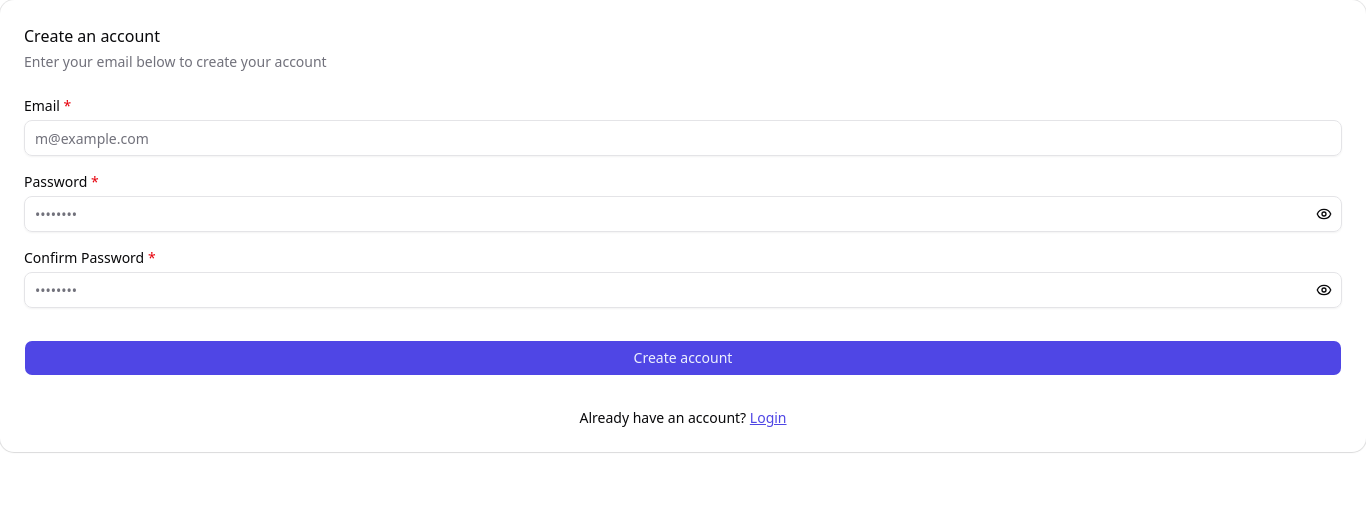
it: RegisterForm - Validation Logic › Password Validation › should show 'Password is required' error when password is empty
Note: Fill in email and confirm password but leave password empty
Type "test@example.com" into the field with placeholder "m@example.com".
click(683, 138); type("test@example.com")  # box [24, 120, 1342, 156]
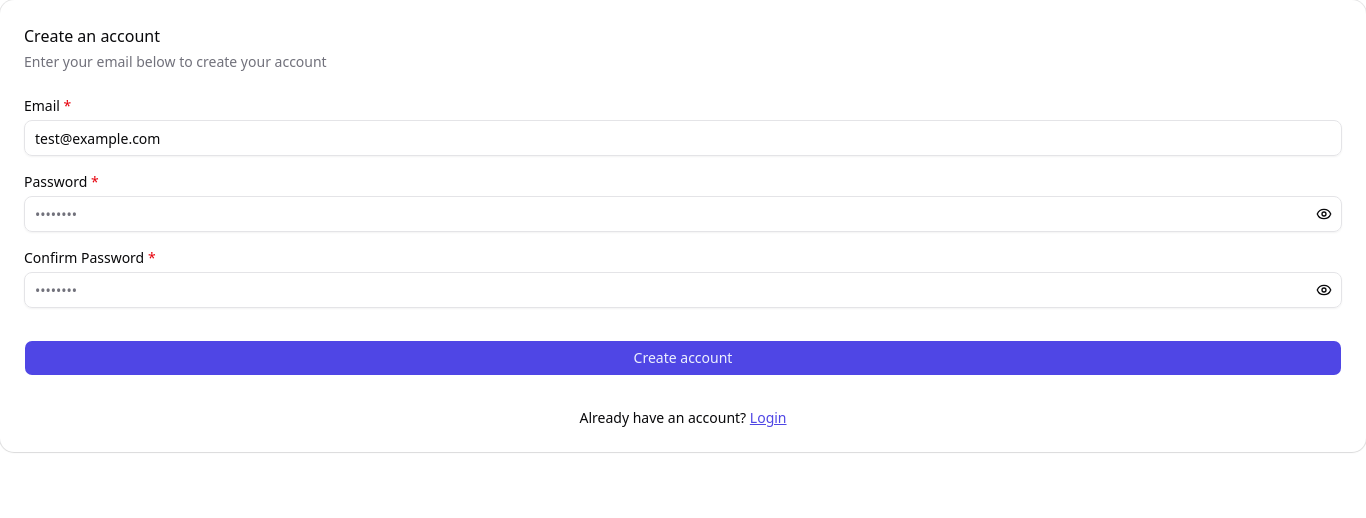
Type "password123" into the password field with placeholder "••••••••" below "Confirm Password".
click(683, 290); type("password123")  # box [24, 272, 1342, 308]
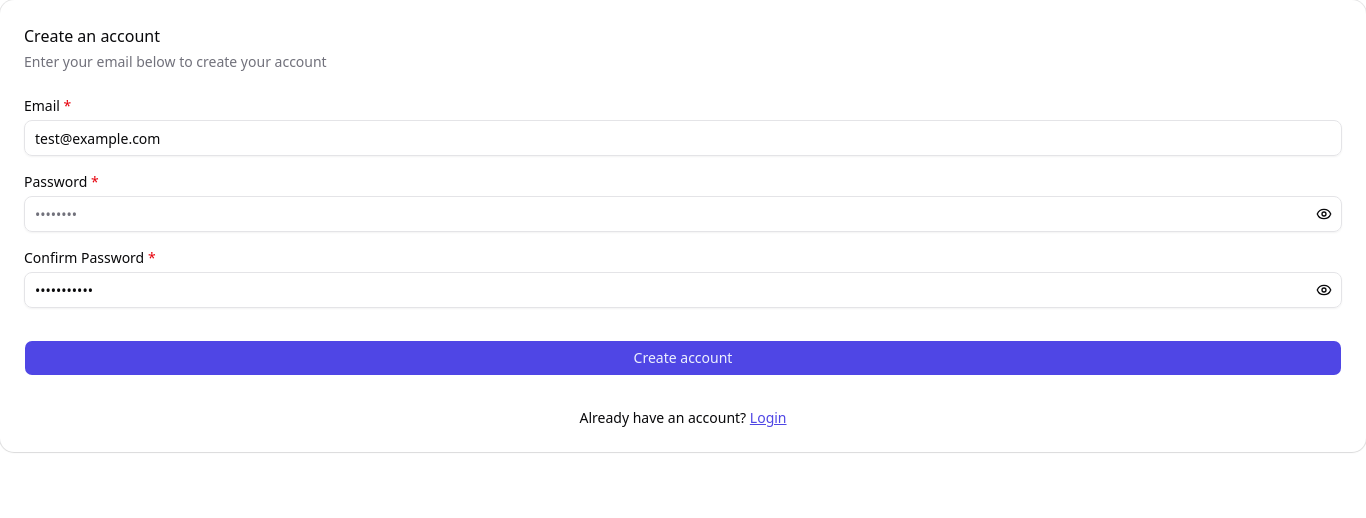
Note: Submit the form
Click the button "Create account".
click(683, 358)  # box [24, 340, 1342, 376]
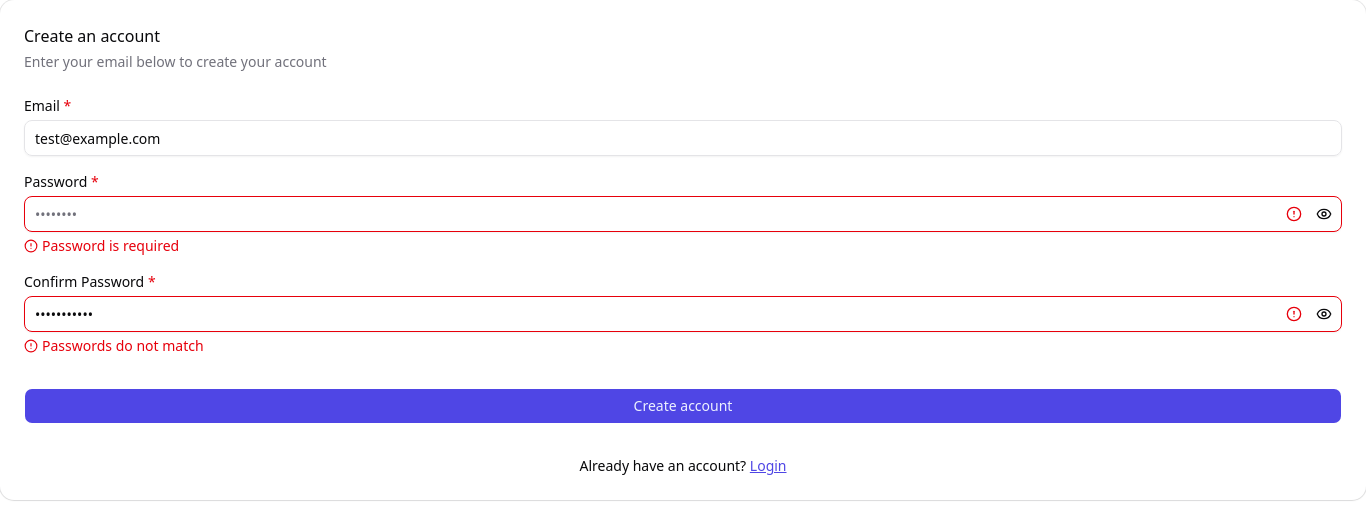
Result: the text "Password is required" is shown at [24, 236, 179, 255]
